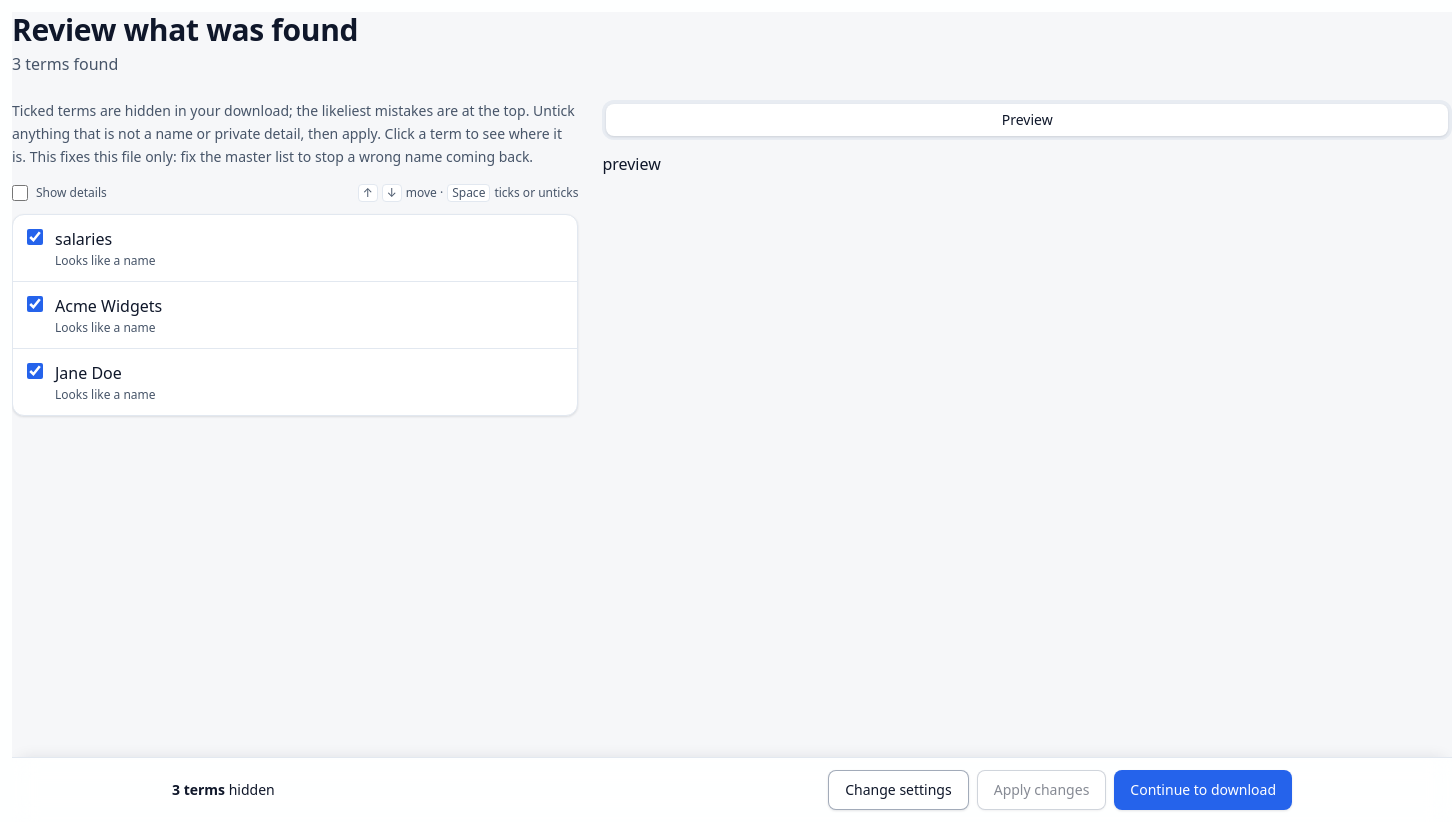
Test: review › re-ticking an untick undoes the change
The width and height of the screenshot is (1452, 822).
Click the checkbox named "salaries". click: {"x": 35, "y": 237}
box: [27,229,43,245]
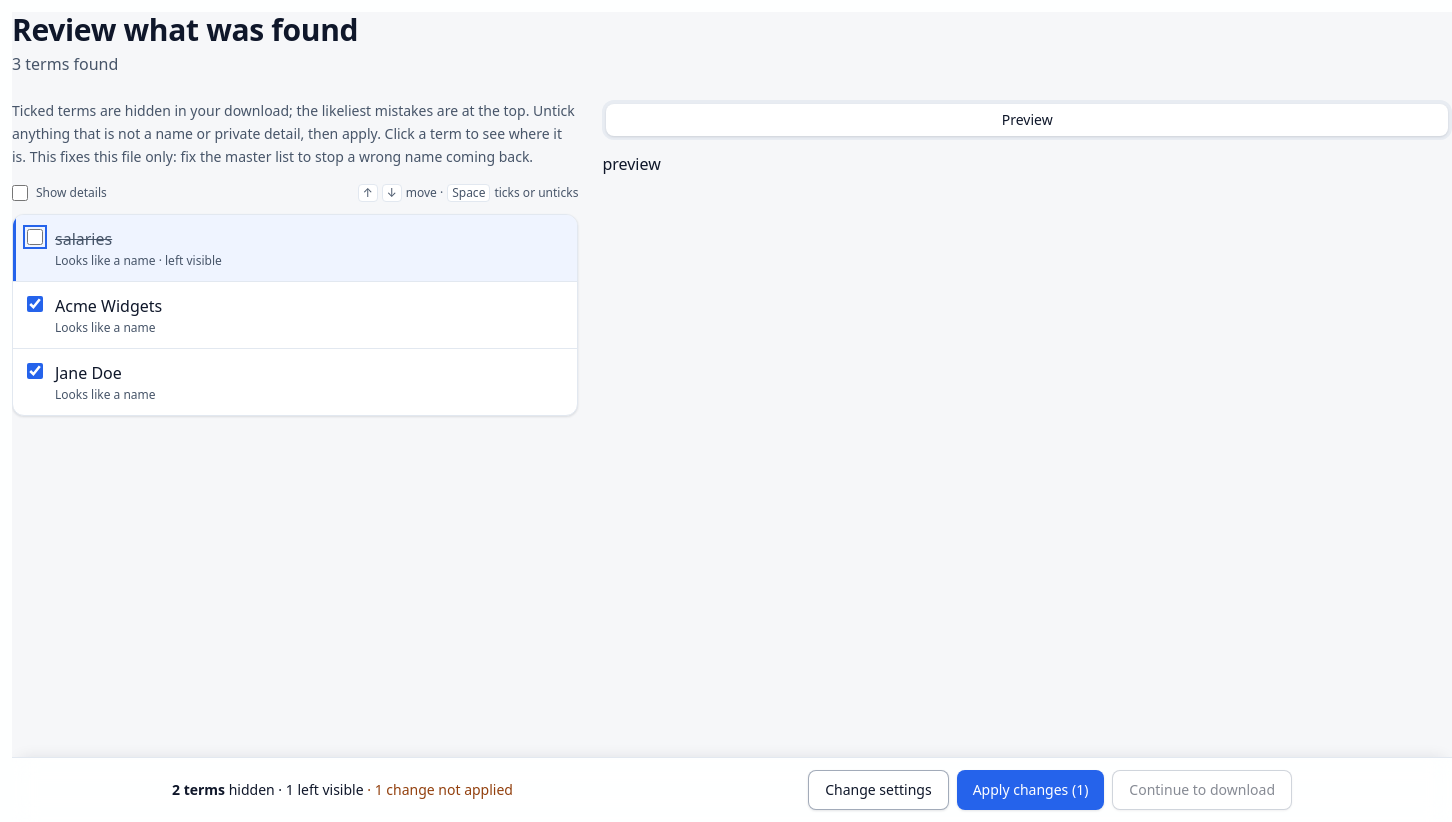
Click the checkbox named "salaries". click: {"x": 35, "y": 237}
box: [27,229,43,245]
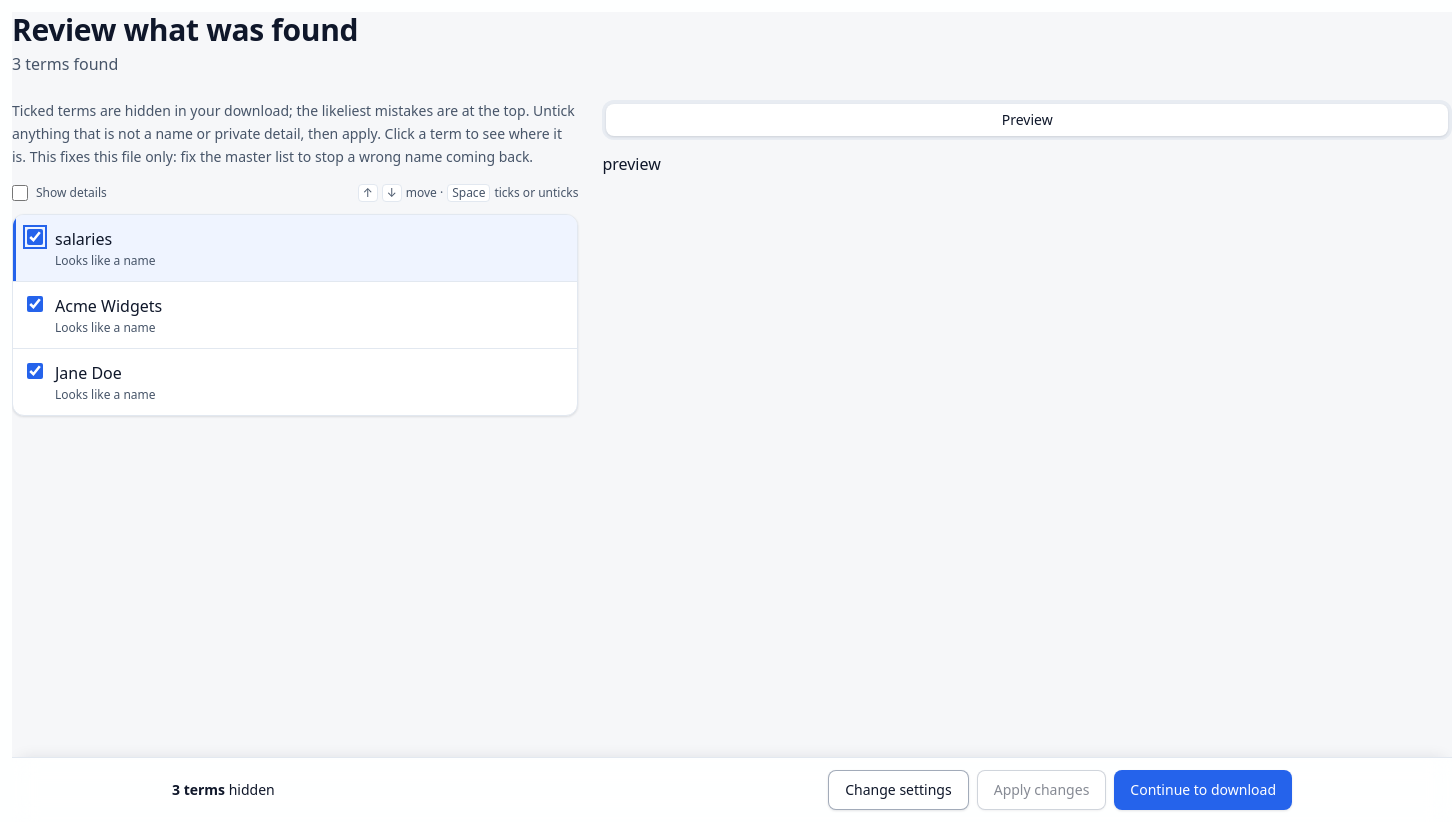
Expected: the button "Continue to download" is enabled, [1114,770,1292,810]
